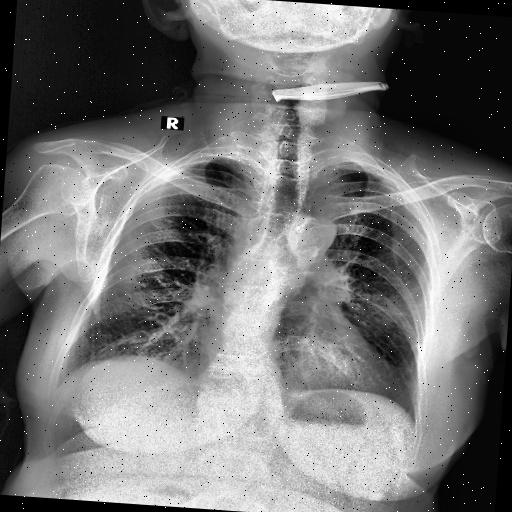0- Aortic enlargement: (276, 210, 340, 260)
11- Pleural thickening: (327, 159, 405, 190), (180, 149, 260, 174)
3- Cardiomegaly: (203, 316, 398, 400), (199, 332, 397, 407), (195, 349, 402, 408)
9- Other lesion: (218, 154, 304, 406)
